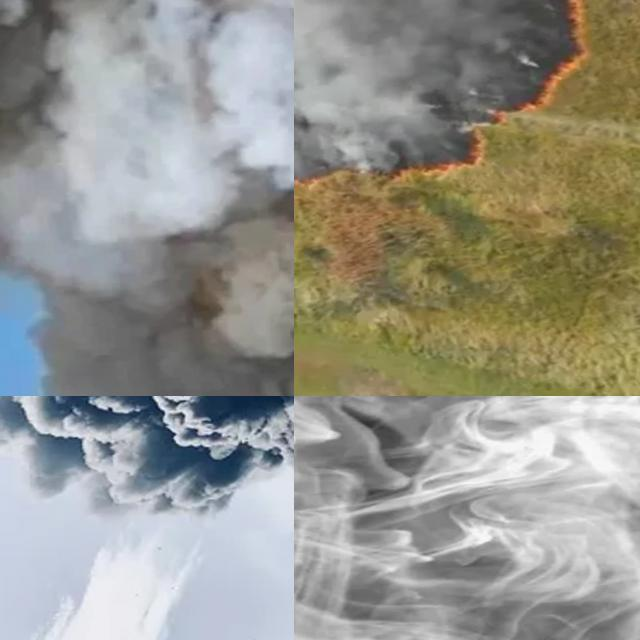smoke: (0, 0, 294, 396), (294, 396, 640, 640), (294, 0, 589, 175), (0, 396, 294, 569)
